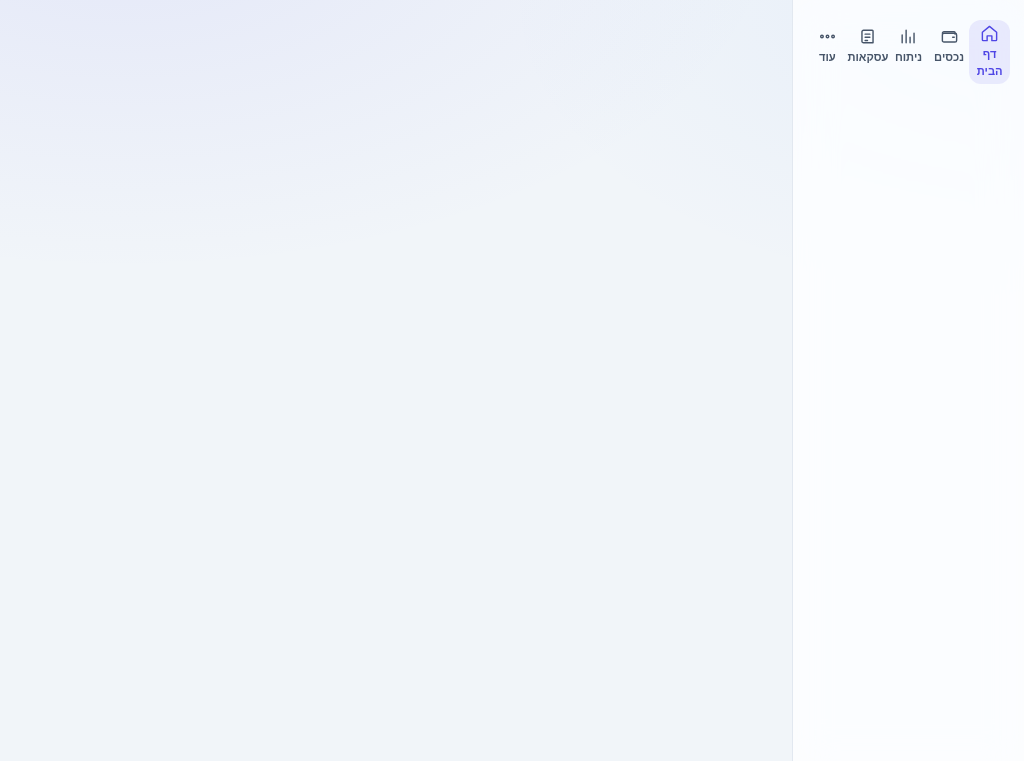
Test: SideNav - the account controls on a phone › the bottom bar holds only pages; the account block is in "עוד"
The width and height of the screenshot is (1024, 761).
expect the text "התנתקות" is not shown: met
Step 1. Click the button "עוד" → (827, 46), box x1=807 y1=20 x2=848 y2=72
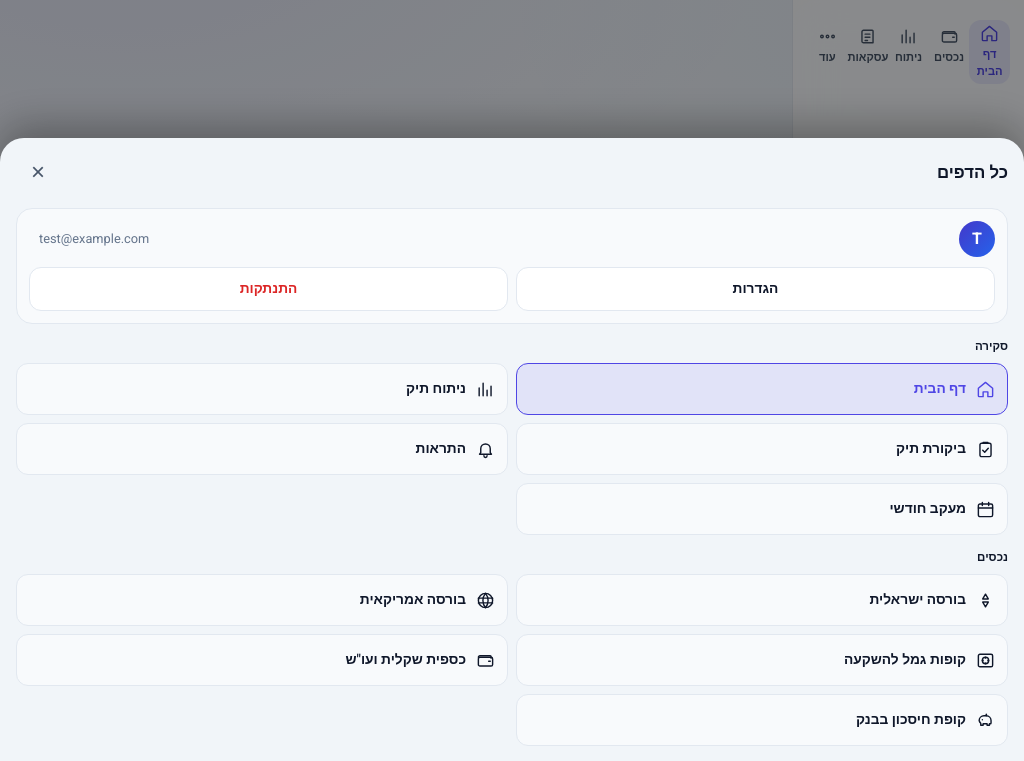
expect the text "test@example.com" is shown: met, box x1=39 y1=230 x2=149 y2=248
